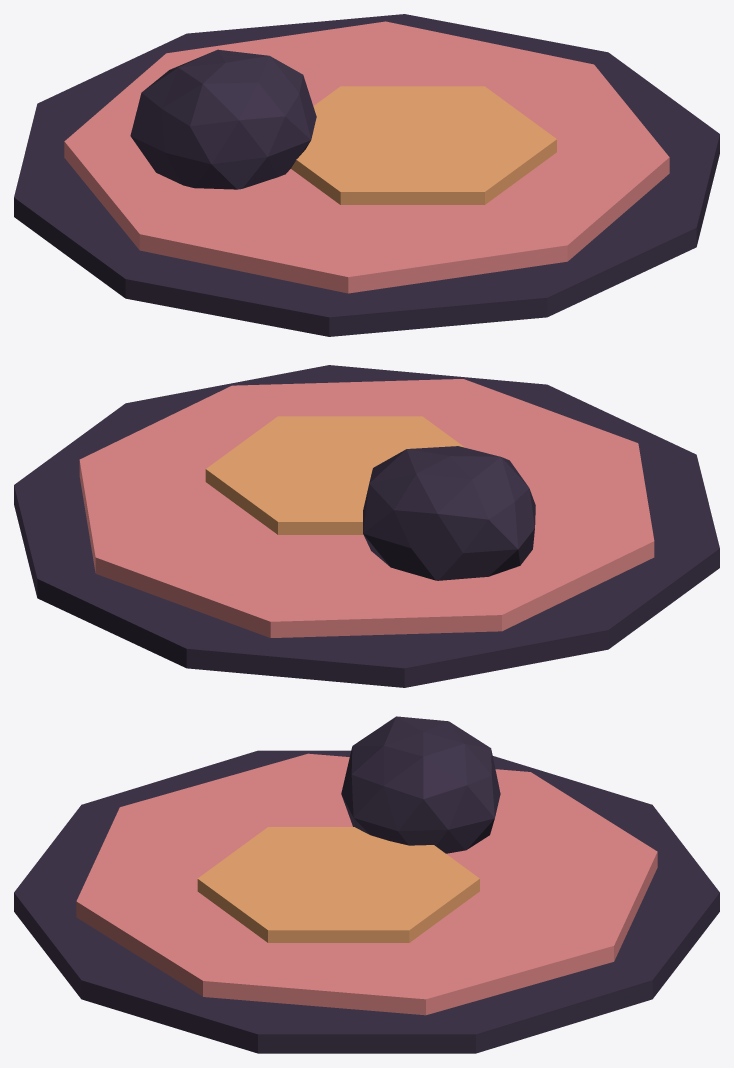
Rendered from lava-puddle-disc.glb.
3 views of the same model, one above another, from view 1: azimuth 30°, elevation 25°; view 2: azimuth 150°, elevation 25°; view 3: azimuth 270°, elevation 25° (orthographic). The views are drawn at different scales.
Parts seen in each view (by area): view 1: volcanic-lava-puddle-disc; view 2: volcanic-lava-puddle-disc; view 3: volcanic-lava-puddle-disc.
Part boxes in pixels (box(x1,y1,x2,y2)): volcanic-lava-puddle-disc: box(14, 14, 719, 336); volcanic-lava-puddle-disc: box(14, 365, 719, 687); volcanic-lava-puddle-disc: box(14, 716, 719, 1053).
Size of the model in its own units: 0.9511 by 0.2024 by 1.
